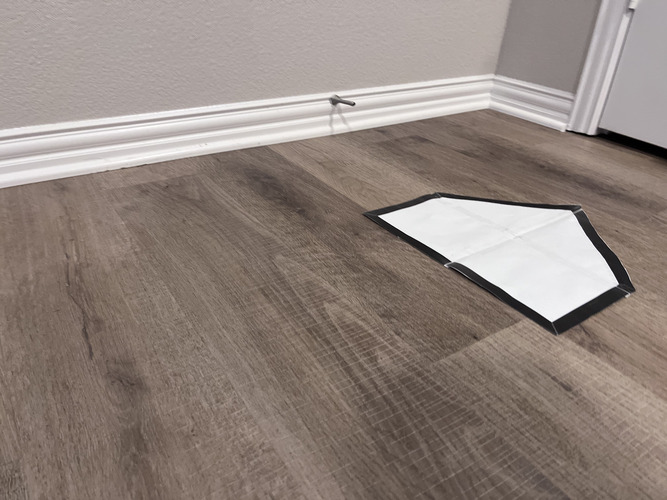homeplate: (363, 191, 636, 335)
